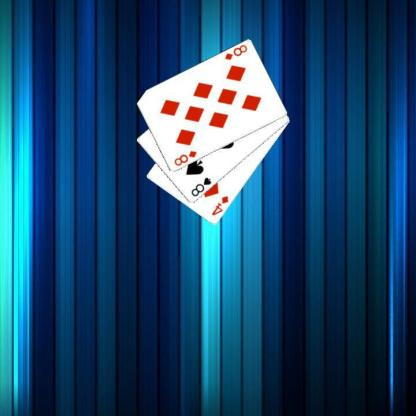4D: (209, 194, 230, 217)
8D: (222, 42, 248, 62), (172, 148, 198, 167)
8S: (188, 175, 213, 198)
